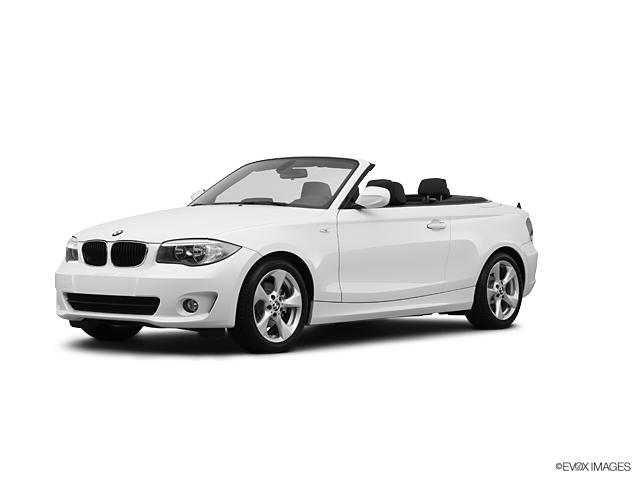car: (48, 151, 540, 355)
